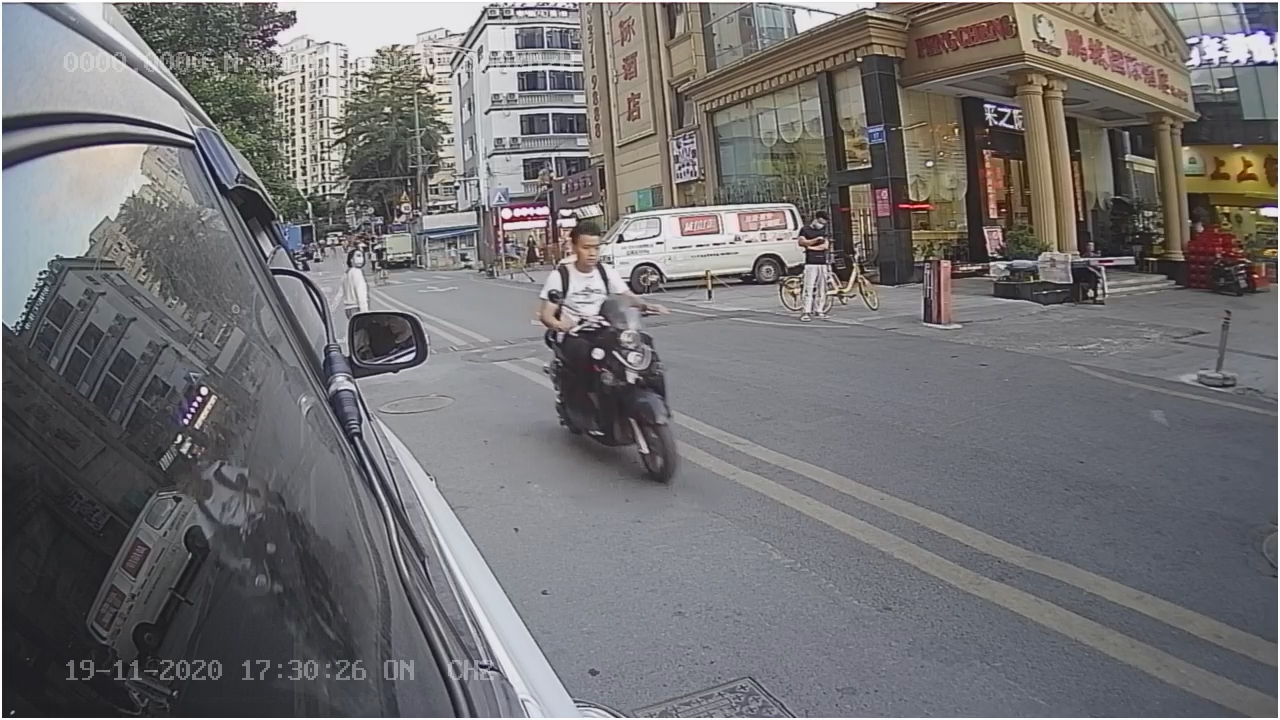person: (537, 226, 634, 308)
